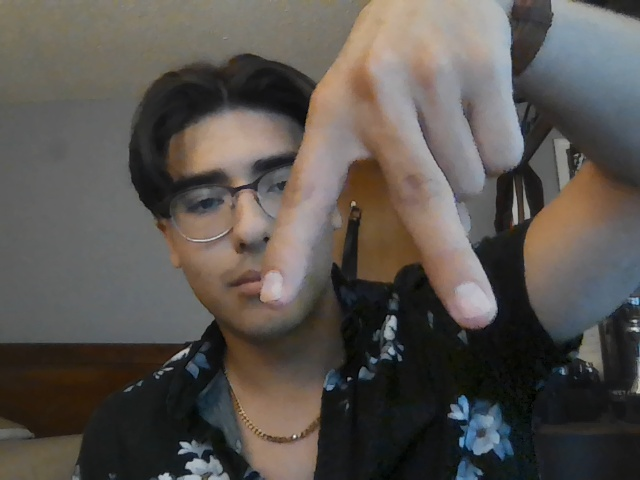Upside-down peace sign: (257, 70, 502, 333)
